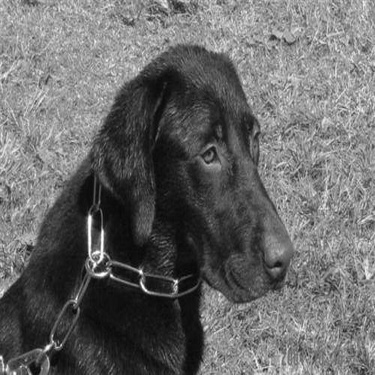dog: (1, 39, 298, 373)
